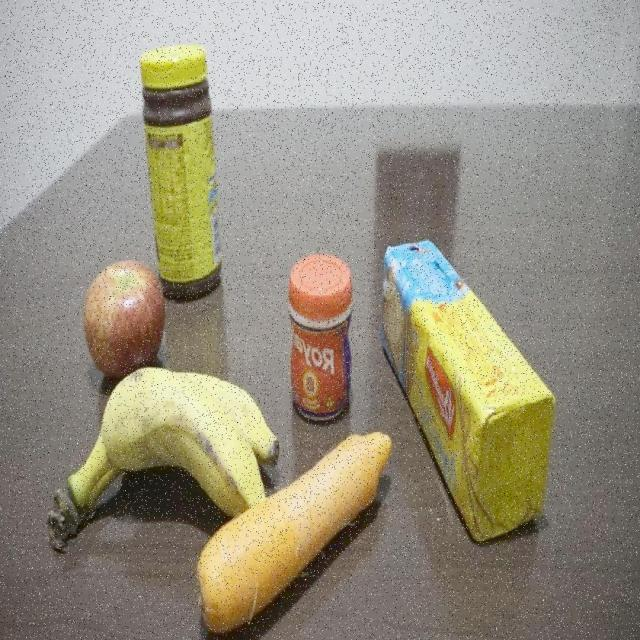Apple: (79, 256, 166, 359)
Banana: (23, 358, 275, 537)
Carrot: (278, 425, 386, 584)
ChocolatePowder: (140, 37, 223, 247)
Cracker: (388, 234, 553, 539)
Yeast: (288, 248, 352, 424)
